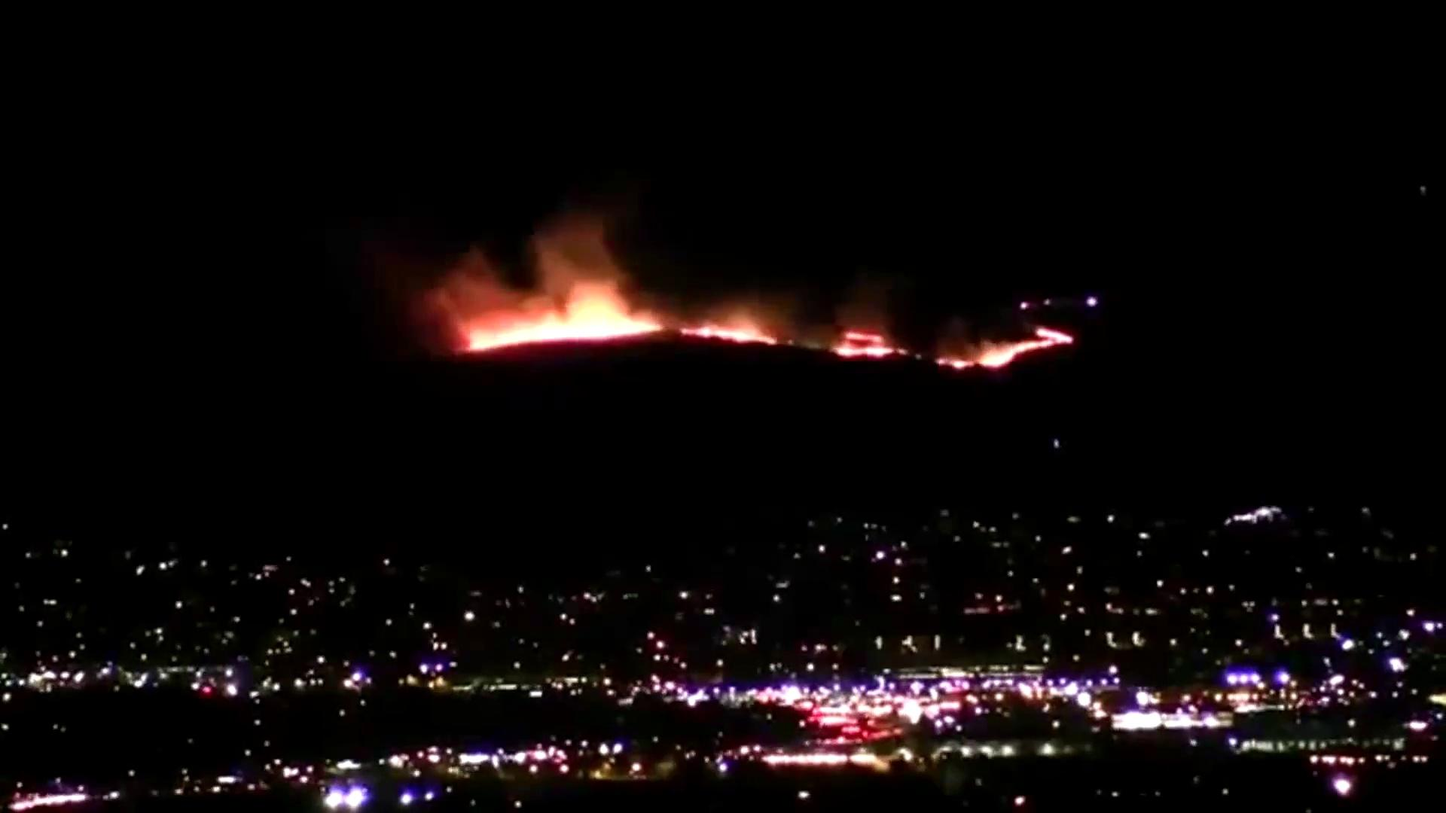fire: (461, 221, 660, 348), (929, 320, 1072, 369), (681, 300, 776, 347), (834, 324, 906, 363)
